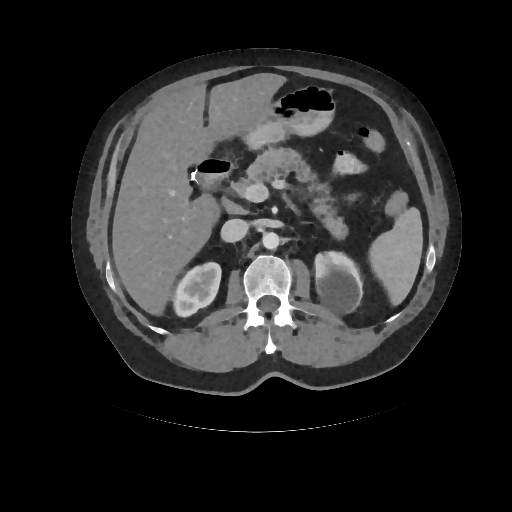Lesion: (312, 265, 365, 319)
